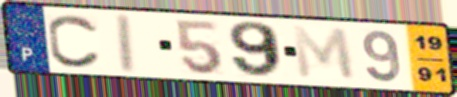5: (173, 17, 226, 77)
9: (228, 20, 286, 81), (360, 29, 403, 84)
C: (45, 12, 104, 70)
I: (117, 12, 139, 75)
M: (290, 24, 359, 83)
